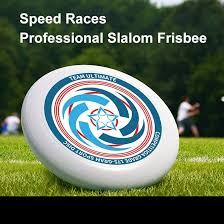disc: (22, 64, 178, 187)
